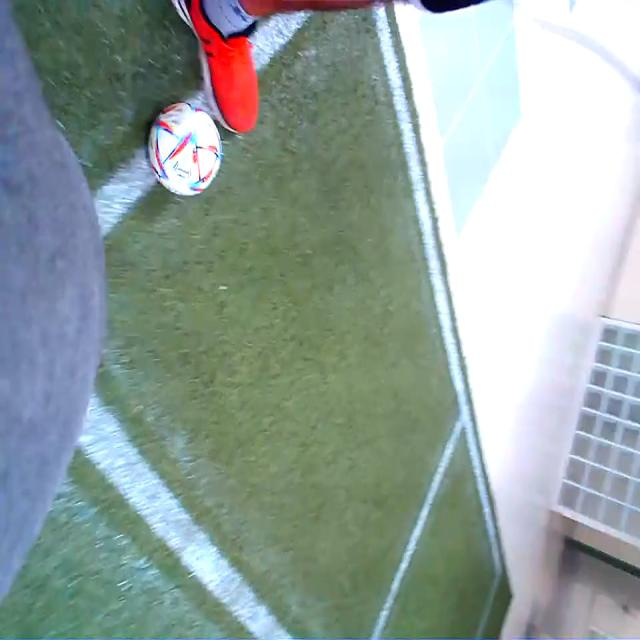ball: (148, 102, 222, 196)
